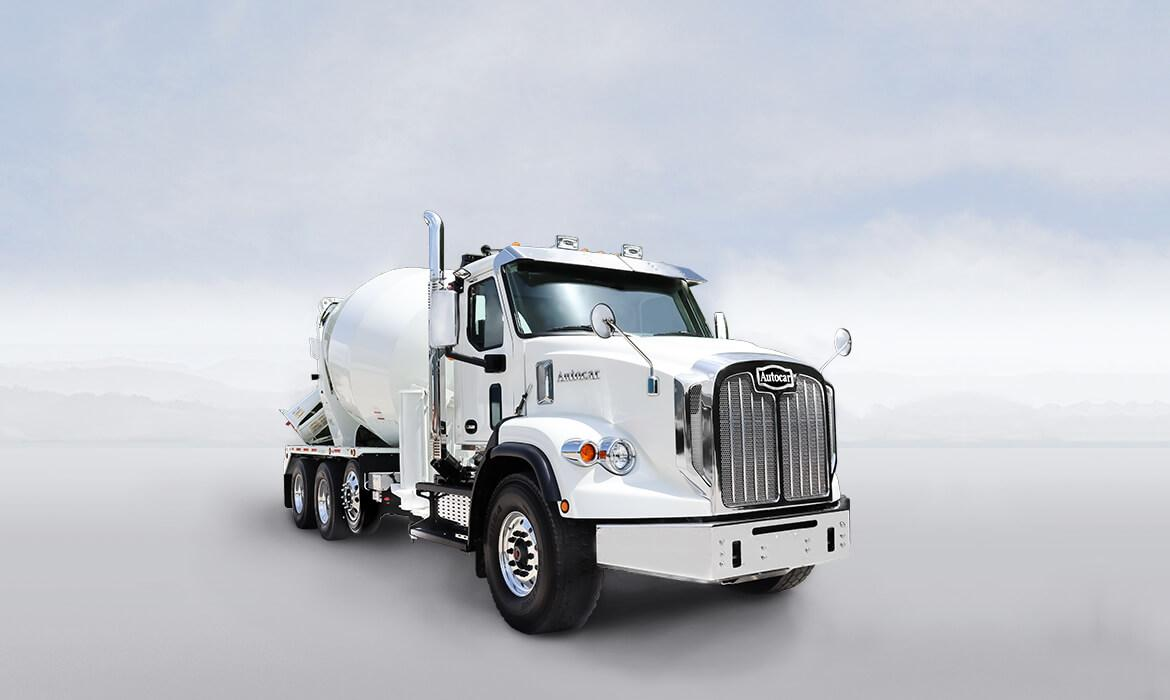truck: (280, 210, 852, 635)
